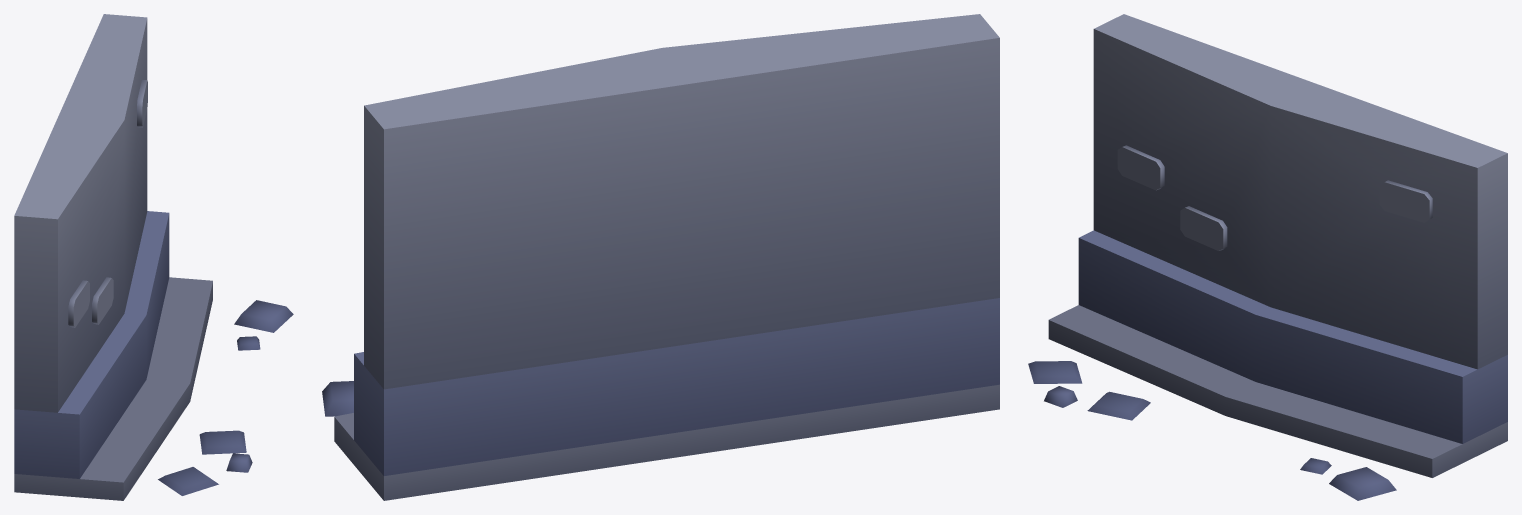
File: template-wall.009.002_lev1.glb
The picture shows the model from 3 angles, left to right: view 1: azimuth 30°, elevation 25°; view 2: azimuth 150°, elevation 25°; view 3: azimuth 270°, elevation 25°; orthographic projection. The views are drawn at different scales.
Parts seen in each view (by area): view 1: template-wall.009.002_lev1; view 2: template-wall.009.002_lev1; view 3: template-wall.009.002_lev1.
Part boxes in pixels (x1,y1,x2,y2): template-wall.009.002_lev1: (14, 14, 293, 500); template-wall.009.002_lev1: (322, 14, 999, 500); template-wall.009.002_lev1: (1028, 14, 1507, 500).
Bounding box in the file's own units: 7.86 × 5.3 × 8.
1 material, 1 textured.
